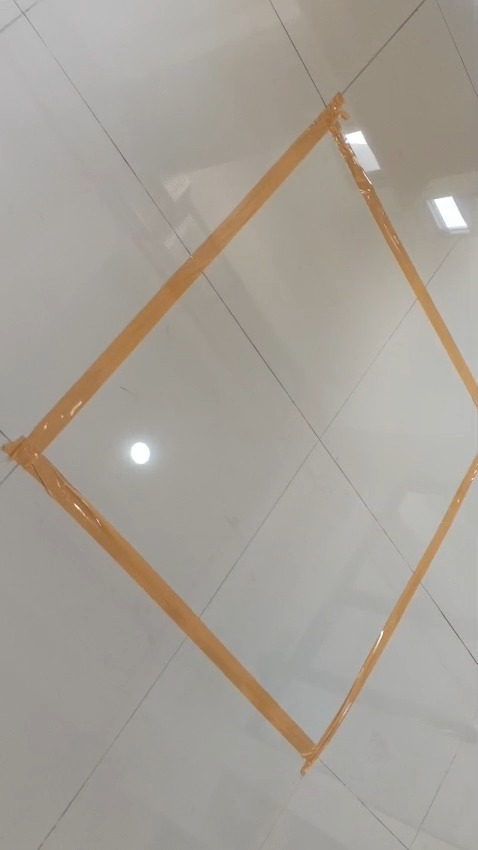floor marking: (2, 94, 477, 772)
